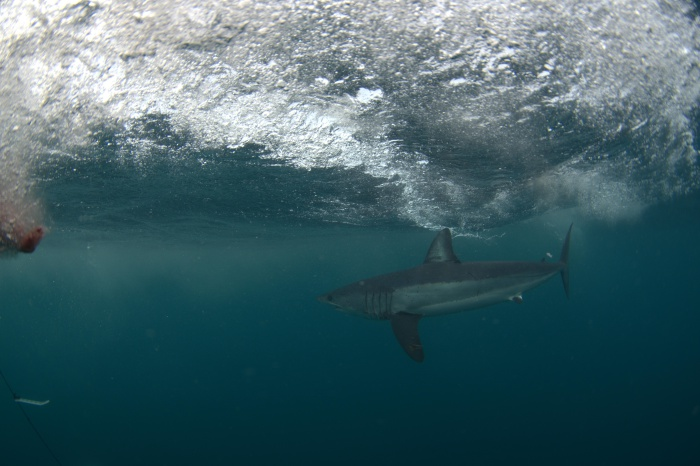Mako: (302, 210, 584, 367)
